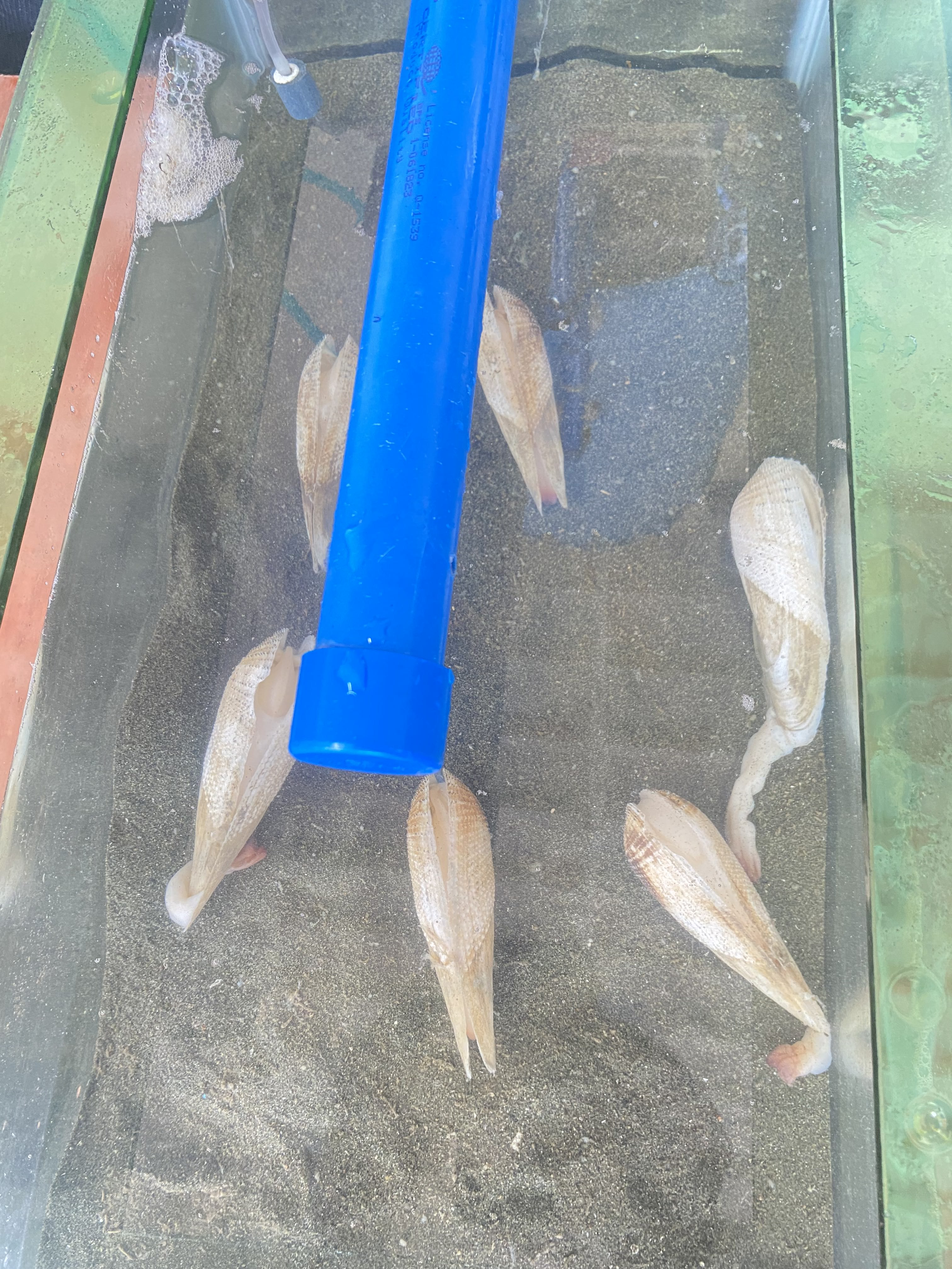At risk: (624, 790, 830, 1082), (625, 790, 821, 1024), (726, 457, 830, 879), (167, 629, 312, 928), (407, 772, 495, 1078), (408, 771, 494, 1037), (478, 286, 567, 514), (479, 286, 564, 496), (196, 696, 292, 847), (297, 336, 357, 572), (297, 358, 354, 514), (340, 640, 445, 723)
